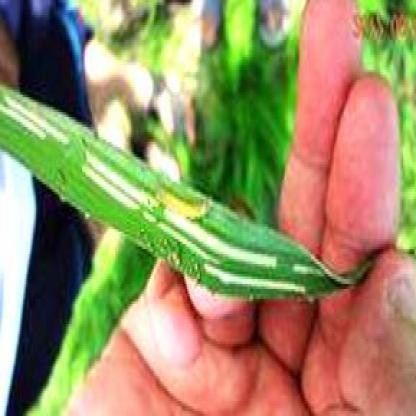leaf-folder: (151, 161, 217, 241)
